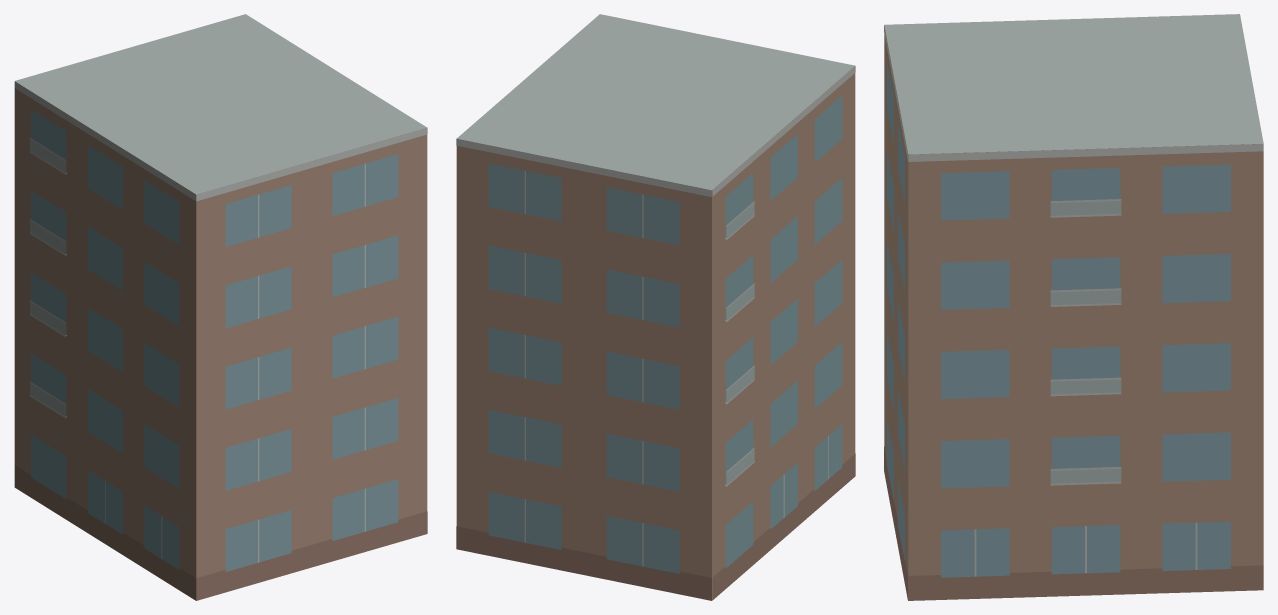
Rendered from survey-upis-32703860.glb.
The picture shows the model from 3 angles, left to right: view 1: azimuth 30°, elevation 25°; view 2: azimuth 150°, elevation 25°; view 3: azimuth 270°, elevation 25°; orthographic projection. The views are drawn at different scales.
Visible parts, largest first — view 1: survey-upis-32703860.tmp; view 2: survey-upis-32703860.tmp; view 3: survey-upis-32703860.tmp.
Boxes of the visible parts, <box> form: survey-upis-32703860.tmp: <box>14,14,427,600</box>; survey-upis-32703860.tmp: <box>456,14,855,600</box>; survey-upis-32703860.tmp: <box>884,14,1263,600</box>.
Size of the model in its own units: 9.79 by 14.5 by 11.18.
